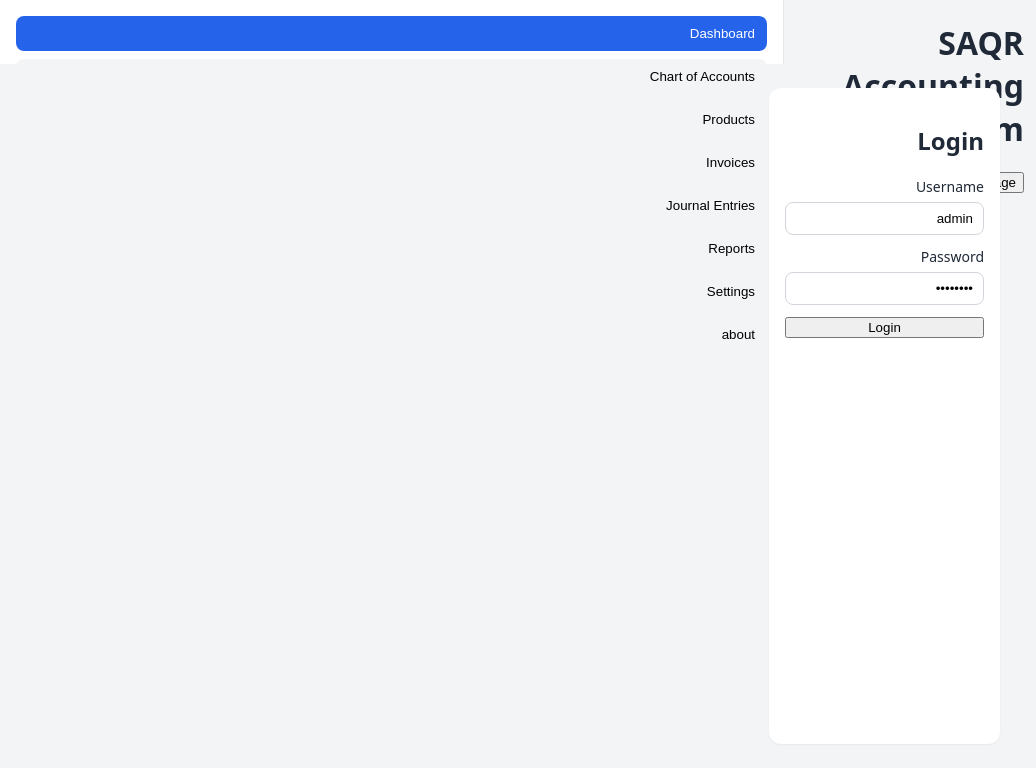
Test: App Component › Authenticated User View › shows dashboard after successful login
Click the button "Login" at (884,327), box left=785, top=317, right=984, bottom=338
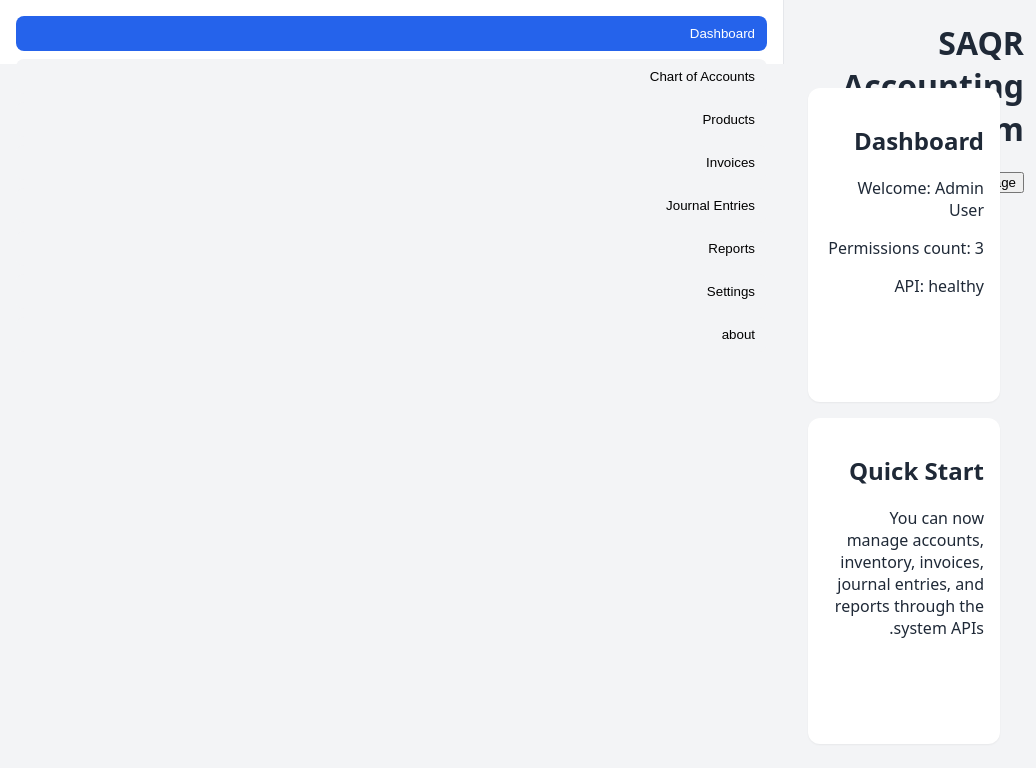
Expected: the text "Permissions count: 3" is shown, left=824, top=237, right=984, bottom=259
